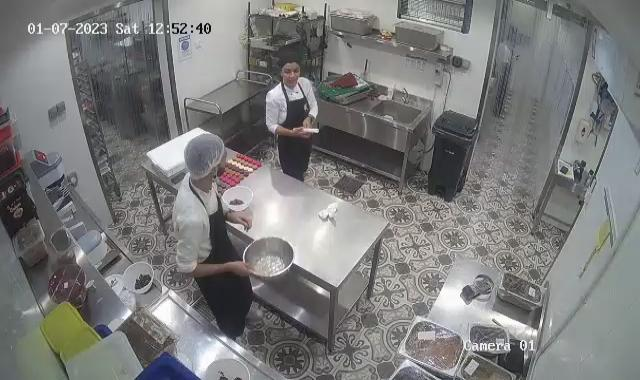hairnet: (182, 135, 225, 180)
no_hairnet: (276, 54, 302, 74)
